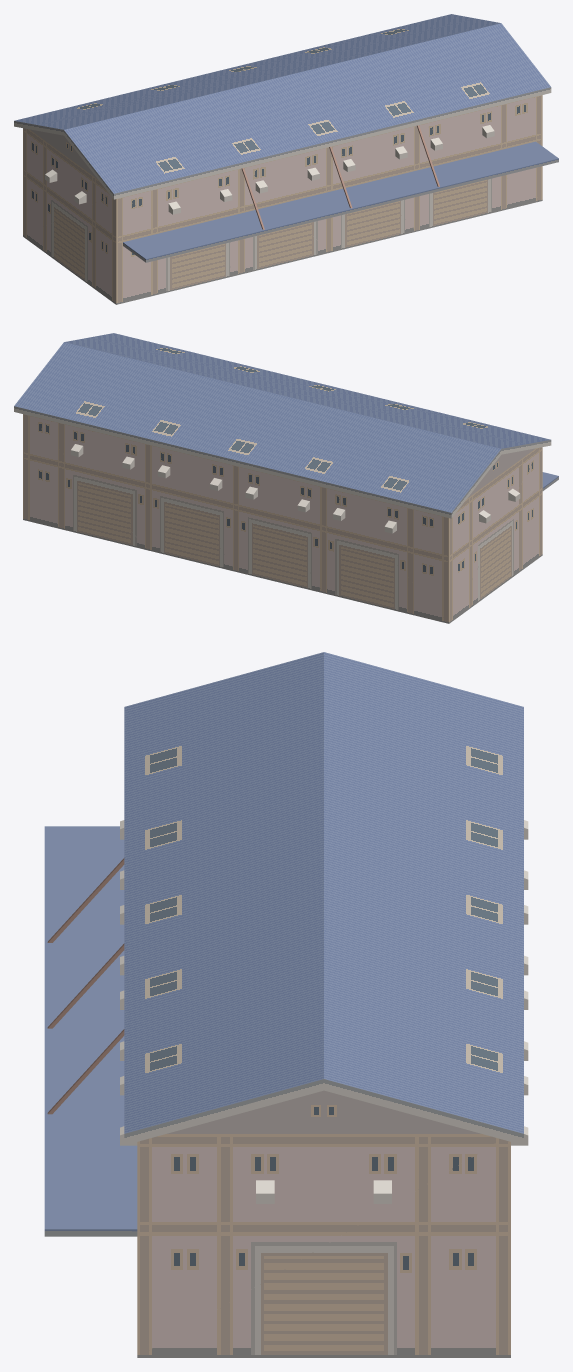
The model's file is 02bc_Warehouse.glb.
3 renders of one model, top to bottom at view 1: azimuth 30°, elevation 25°; view 2: azimuth 150°, elevation 25°; view 3: azimuth 270°, elevation 25°, orthographic. The views are drawn at different scales.
Parts seen in each view (by area): view 1: part_0; view 2: part_0; view 3: part_0.
Boxes of the visible parts, x1,y1,x2,y2 form: part_0: [14, 14, 558, 304]; part_0: [14, 333, 558, 623]; part_0: [44, 652, 528, 1357].
Size of the model in its own units: 27.44 by 8.45 by 13.02.
1 material, 1 textured.
